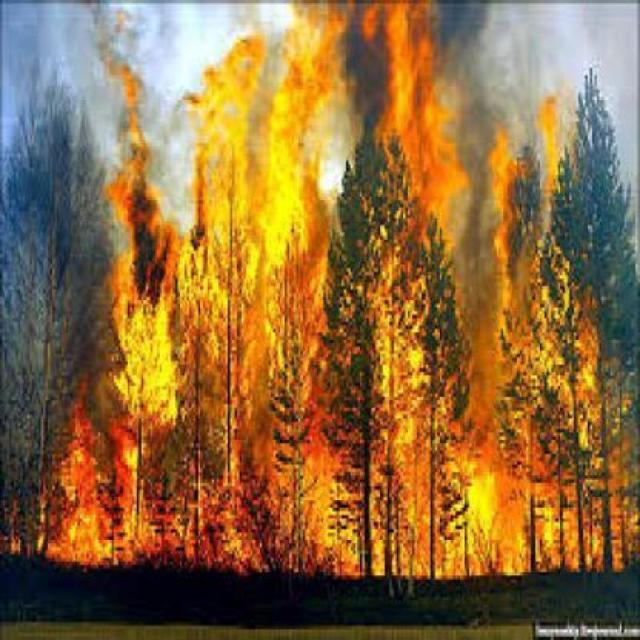Fire: (5, 48, 640, 635)
